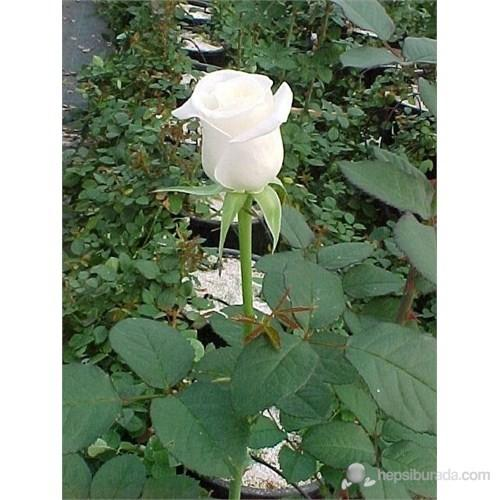Rose: (173, 61, 297, 200)
